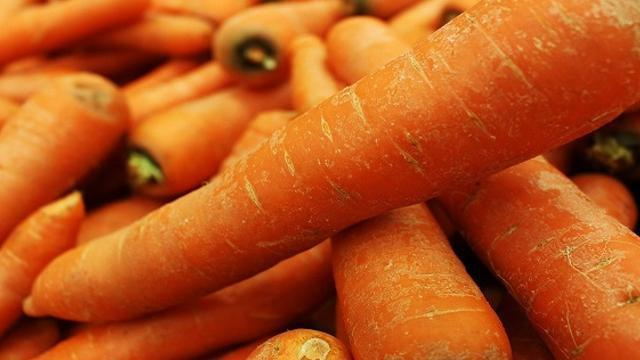carrot: (0, 1, 640, 360), (20, 0, 640, 333), (231, 155, 640, 360), (4, 81, 130, 347)
